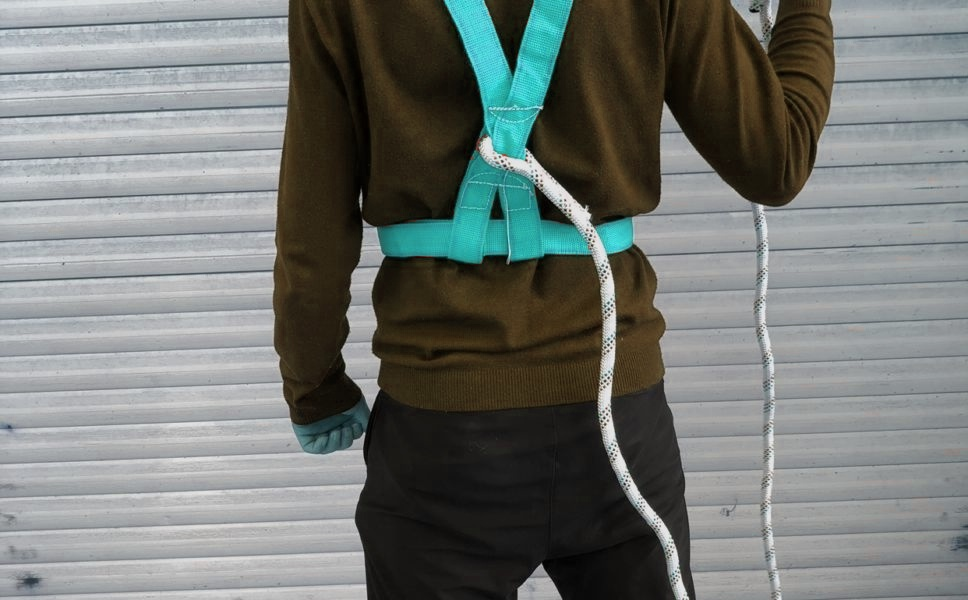safety belt: (382, 1, 663, 269)
